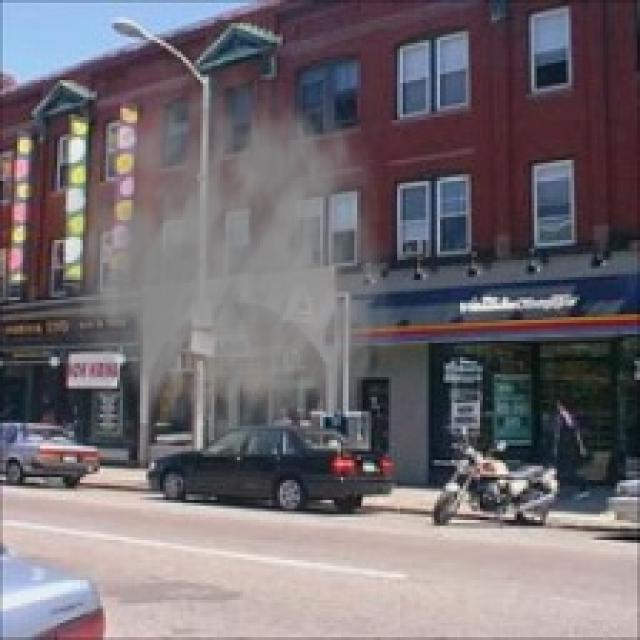smoke: (40, 34, 400, 460)
